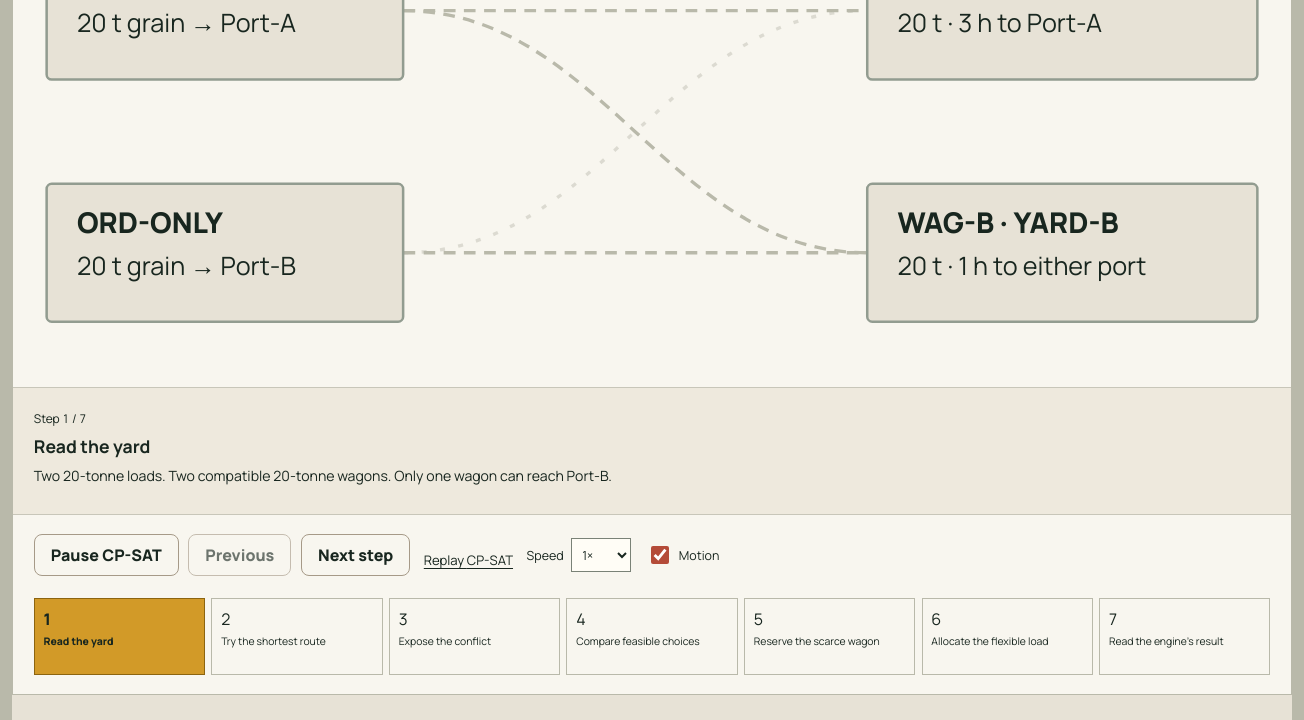
Test: allows deterministic stepping through the bottleneck and derives final counts from the returned plan
The width and height of the screenshot is (1304, 720).
(page scrolled)
Click the button "3 Expose the conflict" at {"x": 474, "y": 636}, box [389,598,560,675]
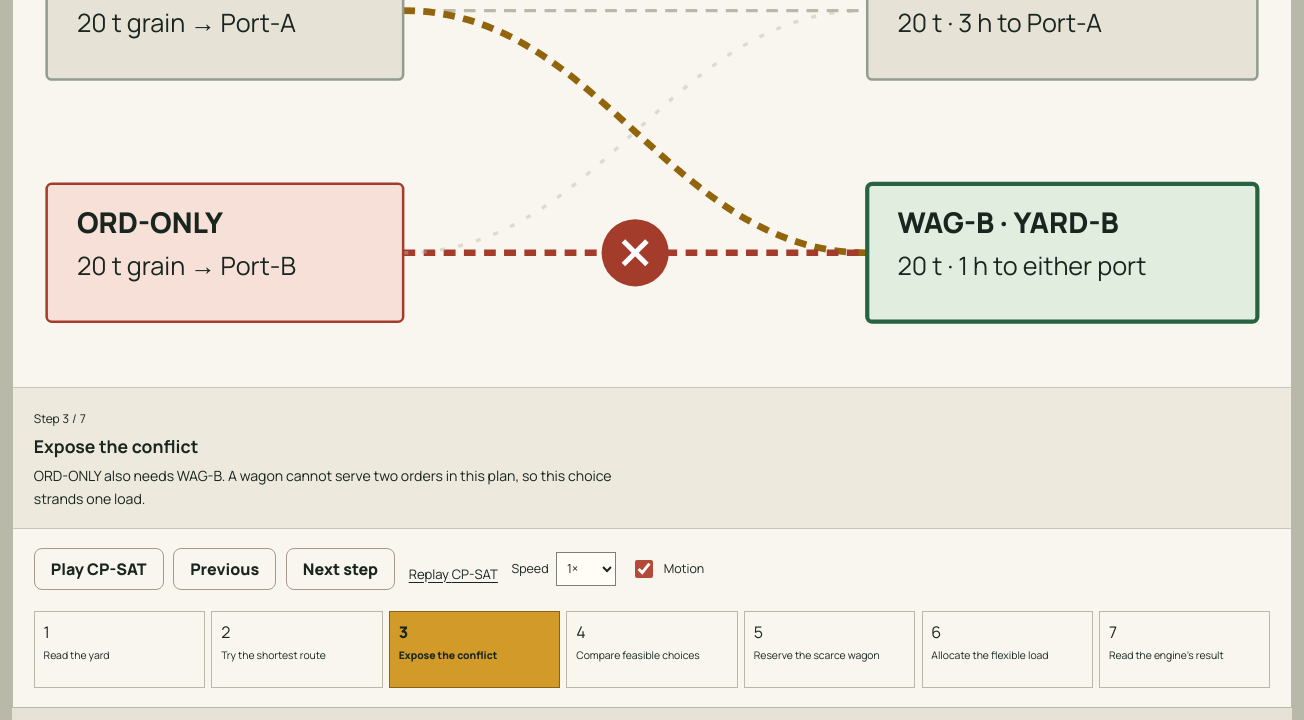
Result: the heading "Expose the conflict" is shown at [34,434,198,458]
Click the button "7 Read the engine’s result" at {"x": 1185, "y": 650}, box [1099,611,1270,688]
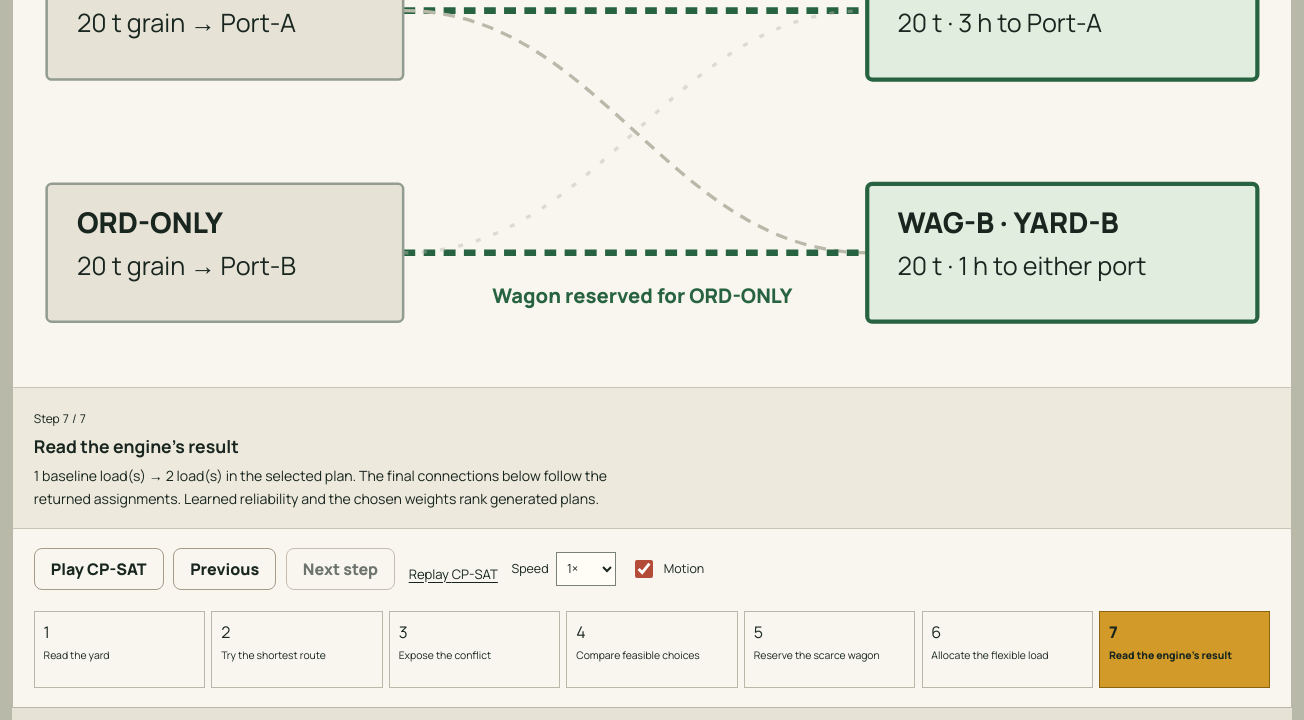
Result: the text "1 baseline load(s) → 2 load(s)" is shown at [34,466,607,508]
Result: the button with aria-label "Next CP-SAT step" is disabled at [286,548,395,590]
Click the button with aria-label "Previous CP-SAT step" at {"x": 225, "y": 569}, box [173,548,276,590]
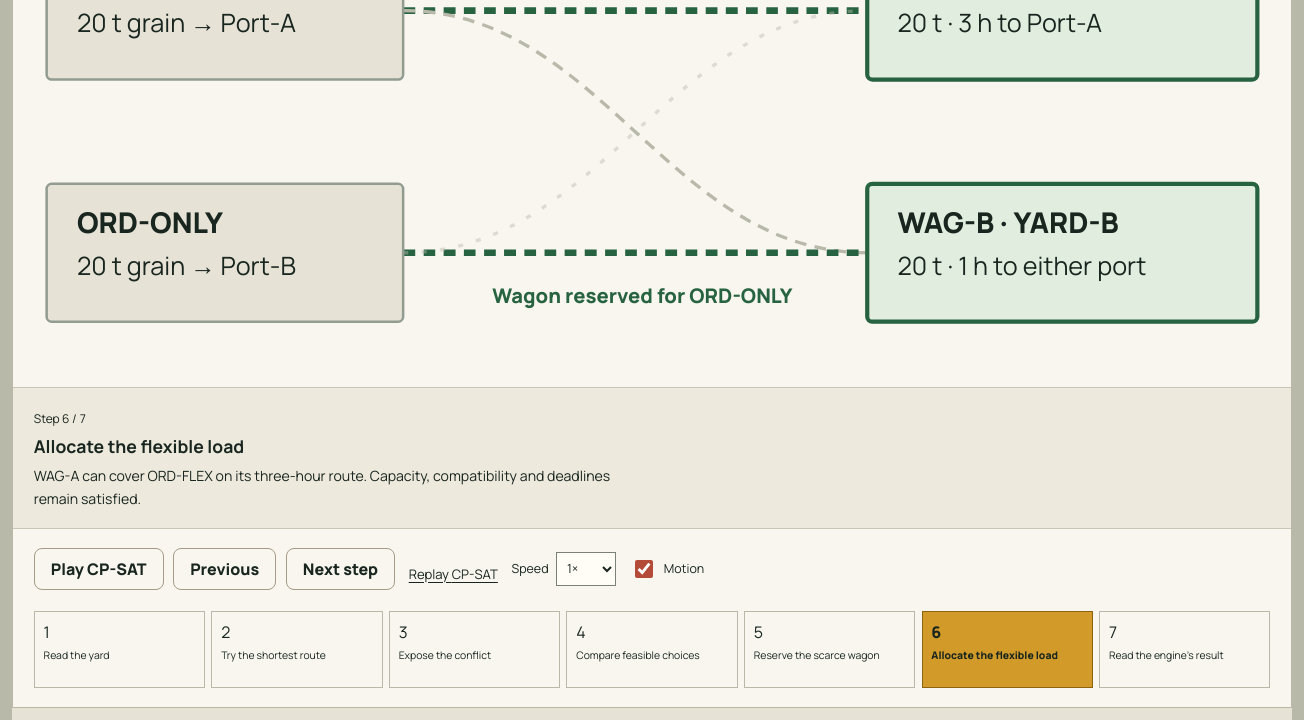
Result: the heading "Allocate the flexible load" is shown at [34,434,244,458]
